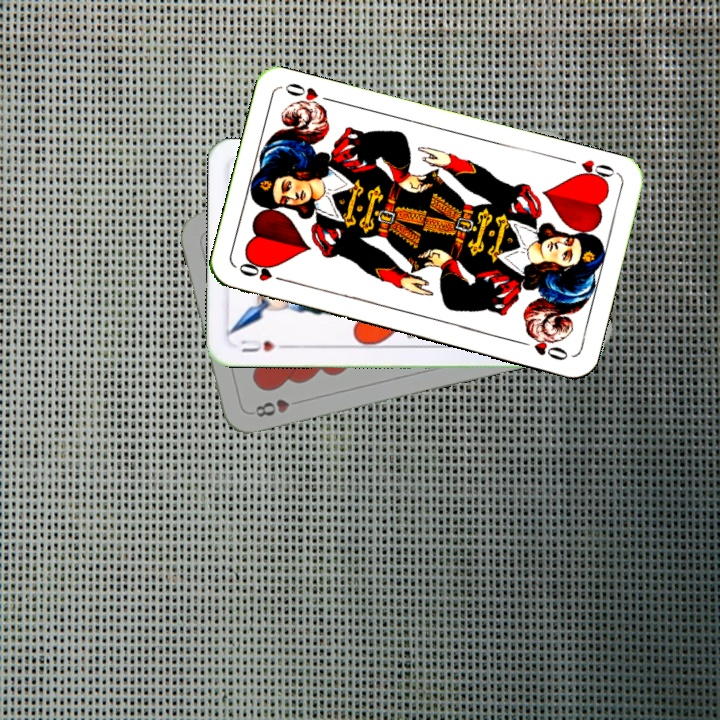H8: (251, 395, 305, 420)
HO: (234, 258, 292, 286), (571, 155, 619, 187)
HU: (237, 335, 290, 355)
